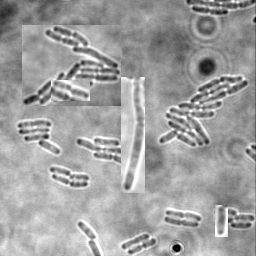Dividing: (121, 77, 145, 193), (51, 80, 90, 101), (52, 175, 89, 189), (128, 238, 157, 255), (166, 209, 202, 222), (215, 205, 228, 237), (164, 217, 200, 228), (192, 7, 229, 17)
Microcolony: (22, 25, 121, 106), (158, 76, 249, 147), (18, 120, 61, 155), (76, 137, 121, 168), (214, 208, 255, 229)
Rod: (121, 233, 150, 251), (78, 222, 99, 240), (50, 167, 72, 177), (69, 174, 90, 183)
